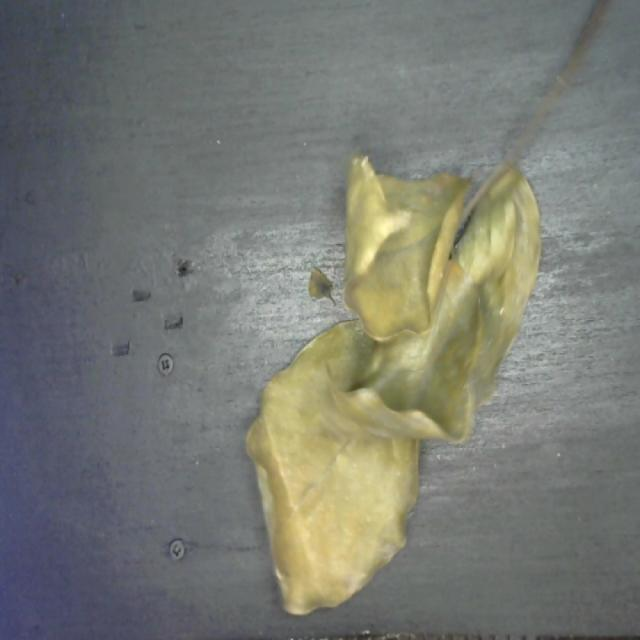biodegradable: (242, 142, 549, 635)
